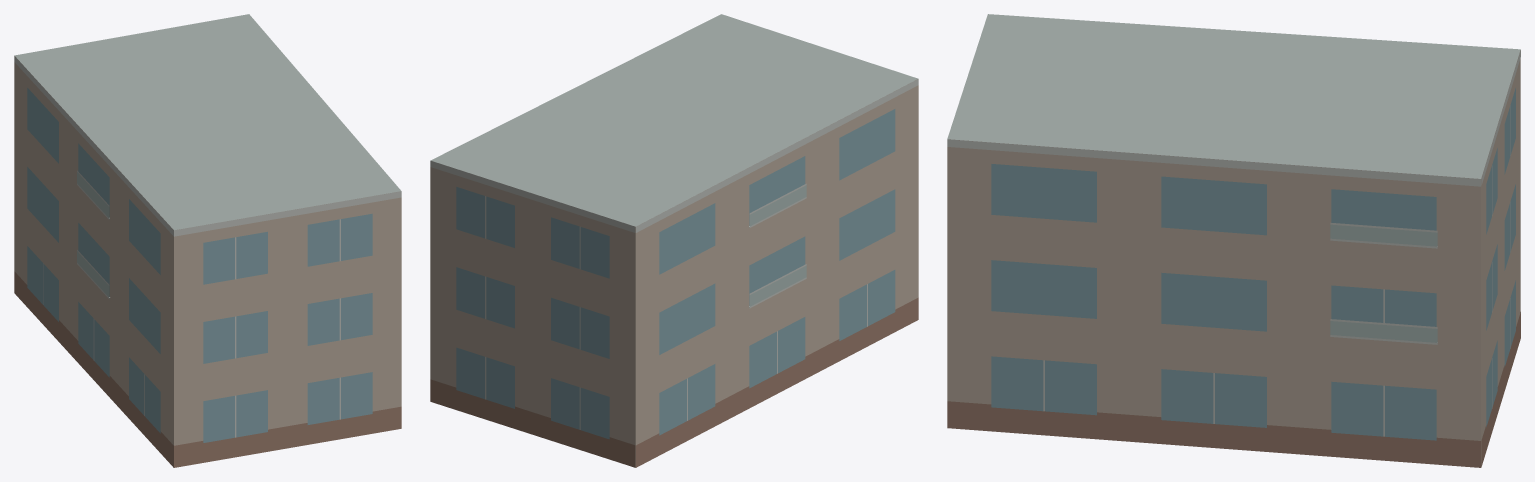
File: survey-upis-32966096.glb
3 renders of one model, left to right at view 1: azimuth 30°, elevation 25°; view 2: azimuth 150°, elevation 25°; view 3: azimuth 270°, elevation 25°, orthographic. The views are drawn at different scales.
Visible parts, largest first — view 1: survey-upis-32966096.tmp; view 2: survey-upis-32966096.tmp; view 3: survey-upis-32966096.tmp.
Part boxes in pixels (x1=…): survey-upis-32966096.tmp: x1=14, y1=14, x2=401, y2=467; survey-upis-32966096.tmp: x1=430, y1=14, x2=918, y2=467; survey-upis-32966096.tmp: x1=947, y1=14, x2=1520, y2=467.
Bounding box in the file's own units: 11.22 × 9.15 × 16.48.
